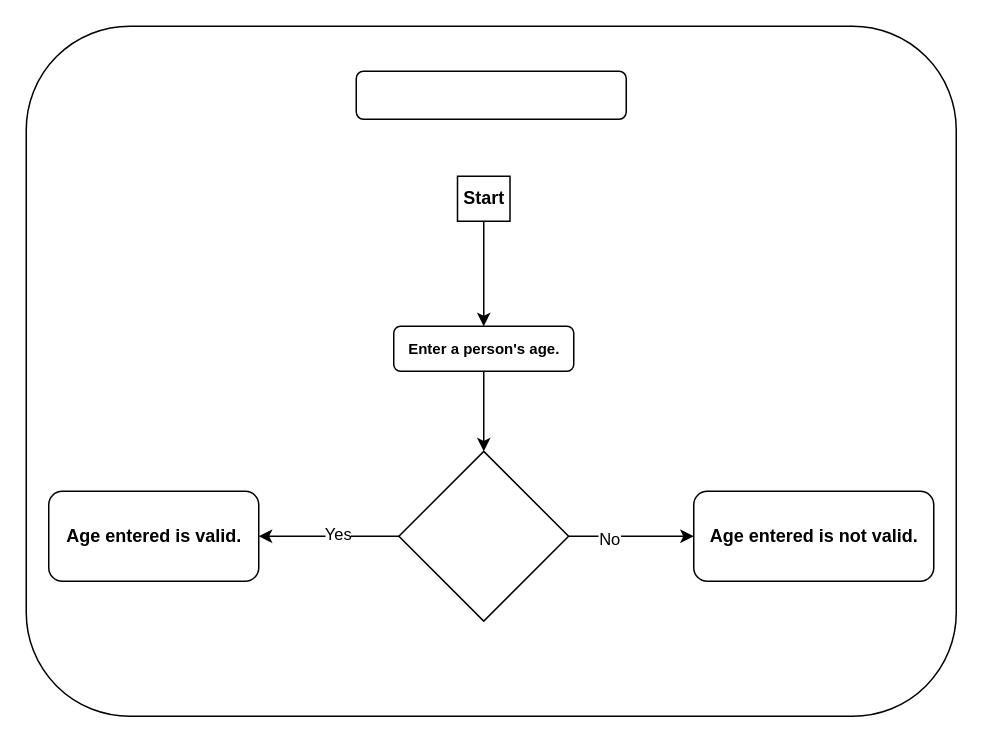
Some shapes in this 983 by 743 pixel diagram are drawn without their labels. The box of each missing label's shape, as (x1, y1, x2, y2) in pixels:
Check valid Age of a person: (355, 70, 626, 119)
is age>0 && age<99: (397, 450, 569, 621)
